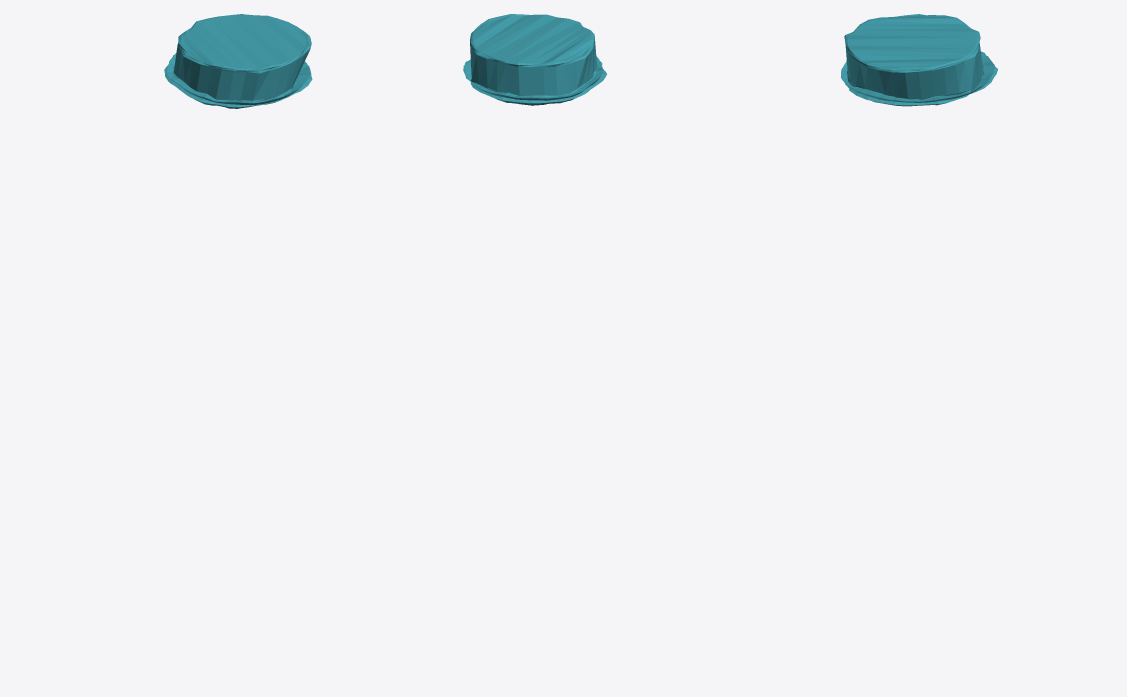
Rendered from crush_medium_1.obj.
The picture shows the model from 3 angles, left to right: view 1: azimuth 30°, elevation 25°; view 2: azimuth 150°, elevation 25°; view 3: azimuth 270°, elevation 25°; orthographic projection. The views are drawn at different scales.
Visible parts, largest first — view 1: model; view 2: model; view 3: model.
Part boxes in pixels (box(x1,y1,x2,y2)): model: box(164, 14, 312, 108); model: box(463, 14, 607, 105); model: box(841, 14, 997, 106).
Size of the model in its own units: 0.0844 by 0.1585 by 0.082.
1 material, 1 textured.
